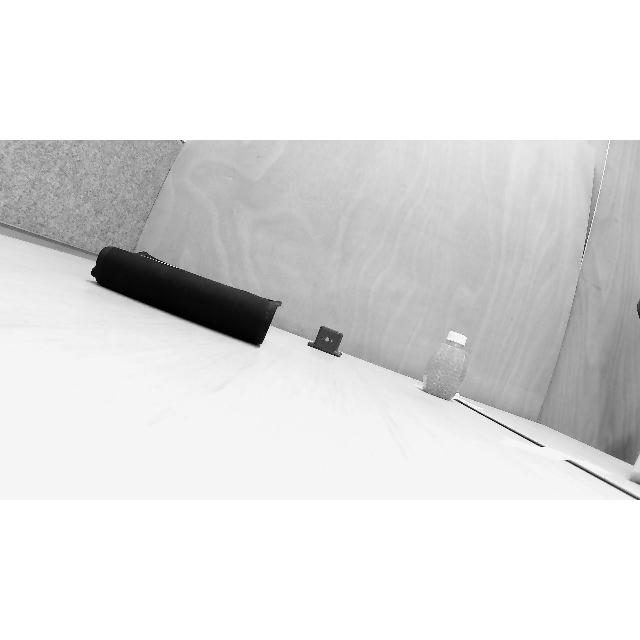targets: (87, 242, 285, 348), (418, 328, 474, 402), (305, 322, 347, 358)
